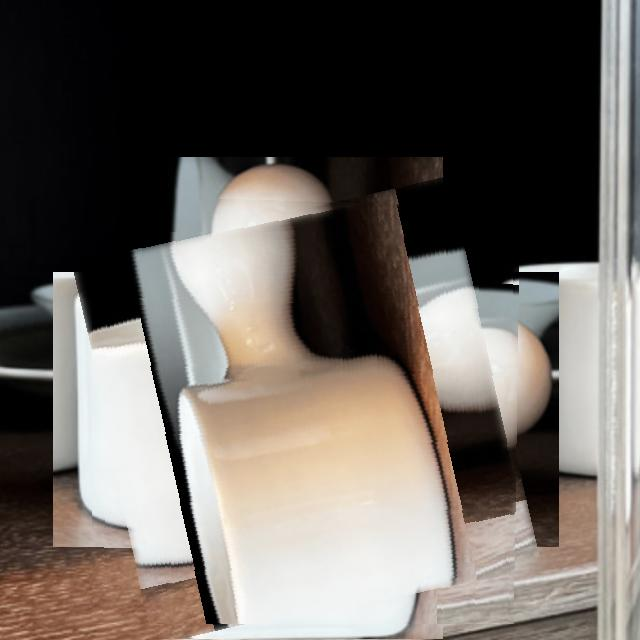recyclable: (92, 195, 520, 624)
